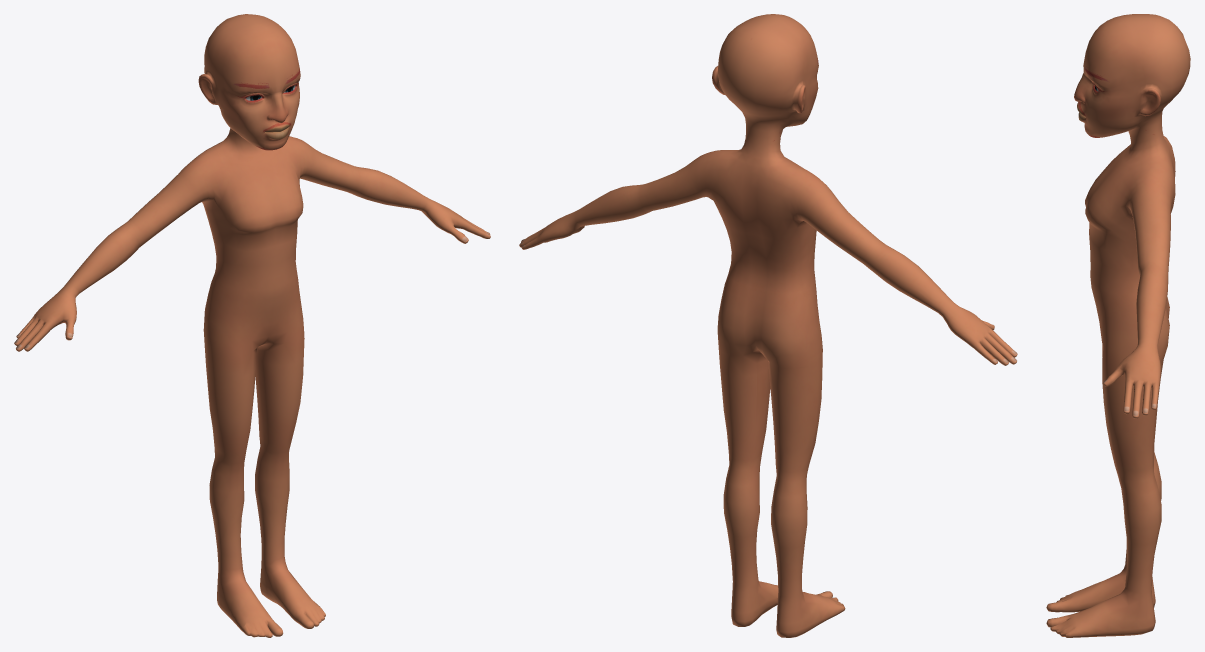
The model's file is frame_0013.glb.
The picture shows the model from 3 angles, left to right: view 1: azimuth 30°, elevation 25°; view 2: azimuth 150°, elevation 25°; view 3: azimuth 270°, elevation 25°; orthographic projection. The views are drawn at different scales.
Parts seen in each view (by area): view 1: frame_0013_head_geo; view 2: frame_0013_head_geo; view 3: frame_0013_head_geo.
Part boxes in pixels (x1,y1,x2,y2): frame_0013_head_geo: [14, 14, 490, 637]; frame_0013_head_geo: [519, 14, 1017, 637]; frame_0013_head_geo: [1046, 14, 1190, 637].
Size of the model in its own units: 1.28 by 1.5 by 0.3253.
3 materials, 3 textured.
